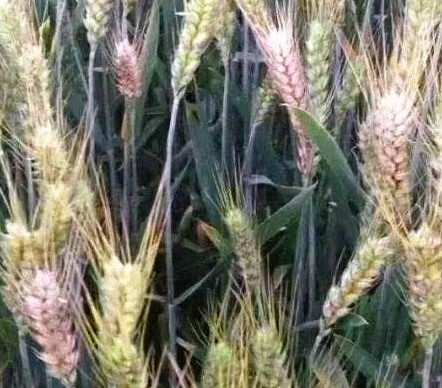Wheat scab: (256, 25, 314, 136), (23, 289, 77, 378), (109, 40, 147, 100)
